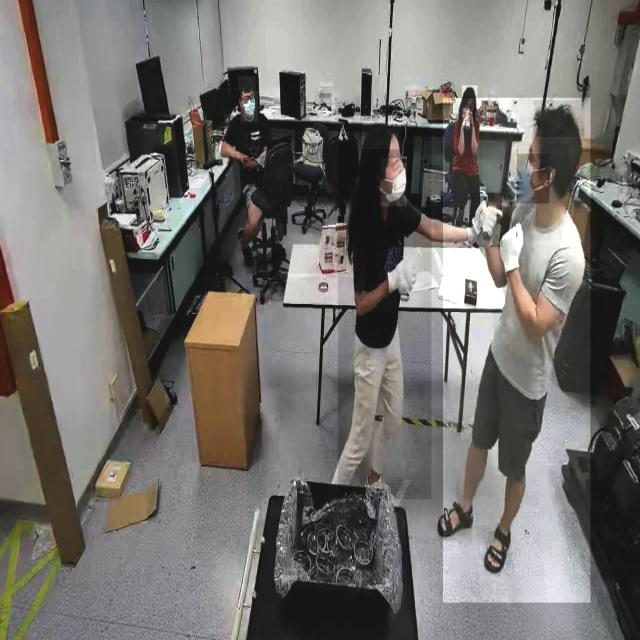face_mask: (517, 154, 549, 204), (381, 158, 407, 206), (240, 90, 258, 122)
hand_glove: (385, 255, 419, 309), (469, 193, 502, 247), (500, 220, 529, 278)
hand_noglove: (242, 157, 258, 175), (239, 151, 253, 167), (468, 107, 475, 128), (462, 108, 470, 126)
head_nohelmet: (534, 100, 584, 138), (361, 122, 401, 150), (238, 76, 256, 90), (462, 85, 478, 98)
person: (442, 97, 590, 604), (338, 122, 432, 500), (220, 88, 282, 250), (444, 88, 482, 228)
